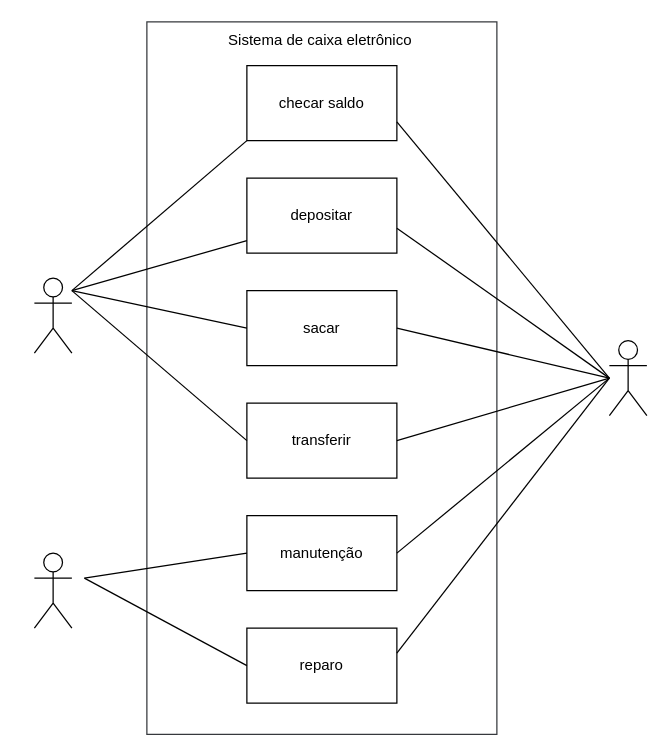
Some shapes in this 671 by 756 pixel diagram are drawn without their labels. The box of each missing label's shape, as (x1, y1, x2, y2) in pixels:
Banco: (608, 339, 647, 416)
Joaryceia: (33, 277, 72, 353)
Técnico: (33, 552, 72, 628)
